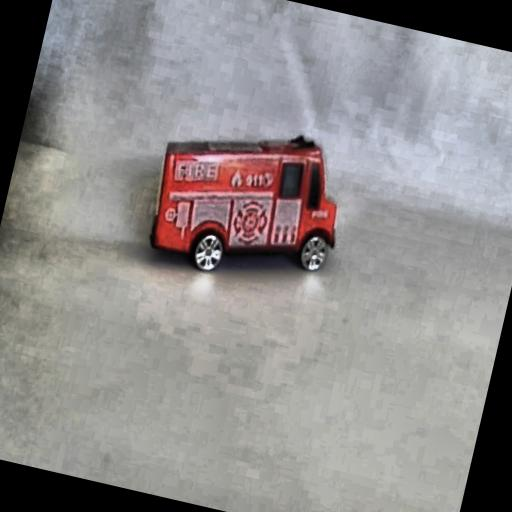fire_truck: (134, 102, 360, 306)
